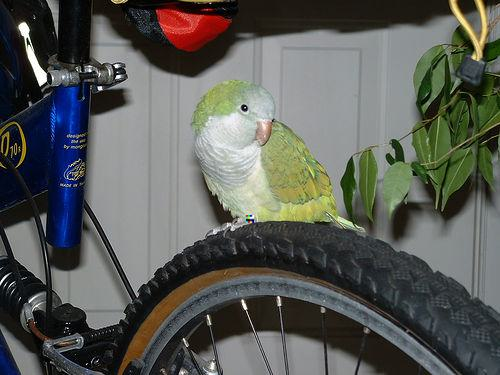bird: (188, 78, 363, 236)
car: (1, 64, 499, 375)
